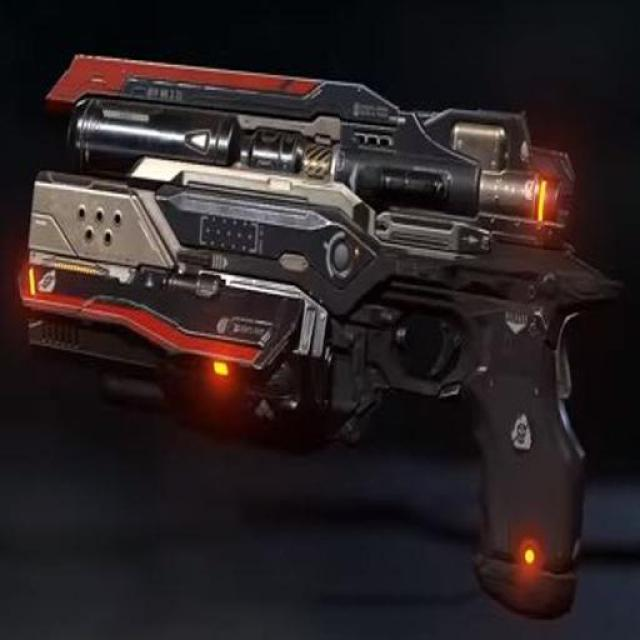pistol: (33, 32, 609, 616)
